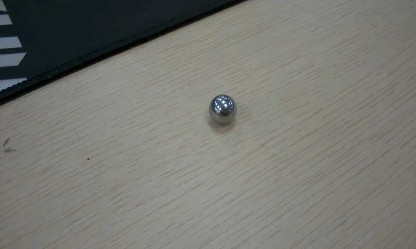ironball: (208, 93, 237, 124)
